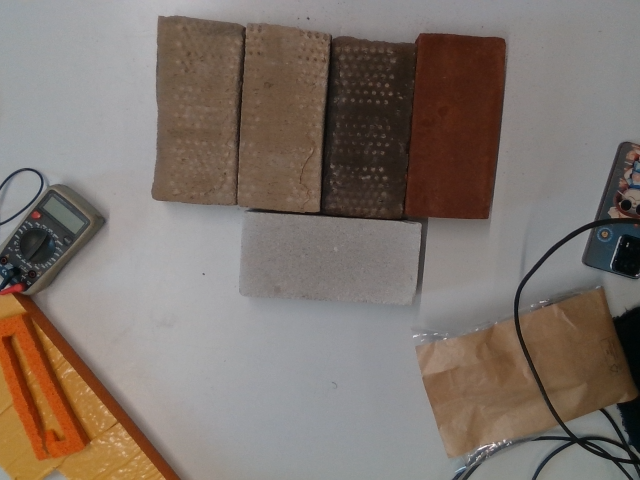brick: (237, 211, 422, 305), (323, 36, 414, 219), (152, 20, 239, 210), (238, 25, 325, 215), (410, 34, 500, 217)
